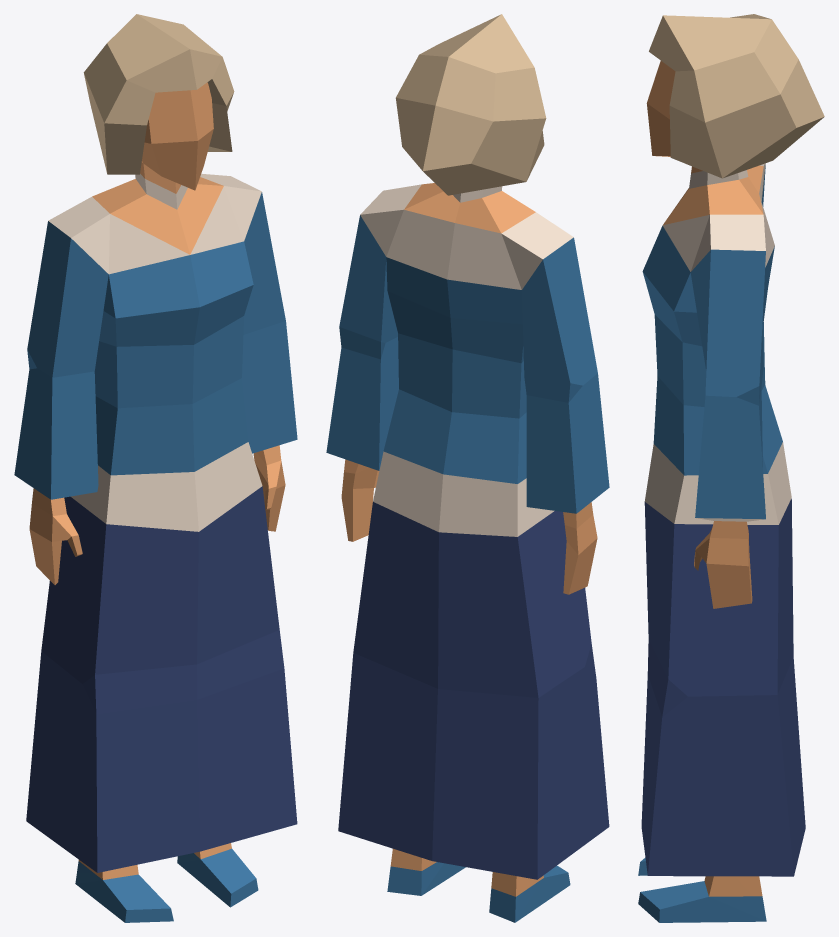
The model's file is woman-lady.glb.
The picture shows the model from 3 angles, left to right: view 1: azimuth 30°, elevation 25°; view 2: azimuth 150°, elevation 25°; view 3: azimuth 270°, elevation 25°; orthographic projection. The views are drawn at different scales.
Visible parts, largest first — view 1: woman-lady; view 2: woman-lady; view 3: woman-lady.
Part boxes in pixels (bbox=[...]): woman-lady: bbox=[14, 14, 297, 922]; woman-lady: bbox=[326, 14, 609, 922]; woman-lady: bbox=[638, 14, 824, 922].
Bounding box in the file's own units: 0.5642 × 1.85 × 0.3569.
Materials: 1 (1 with a texture image).
